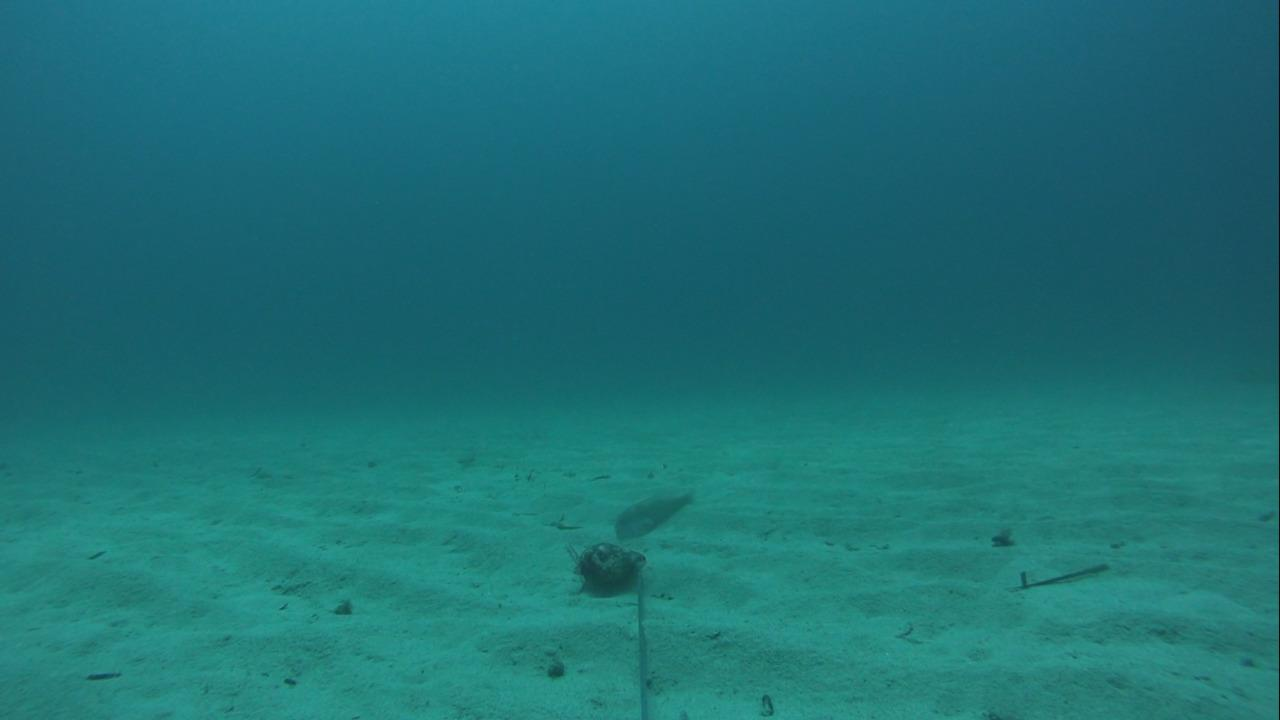raor: (606, 485, 698, 545)
